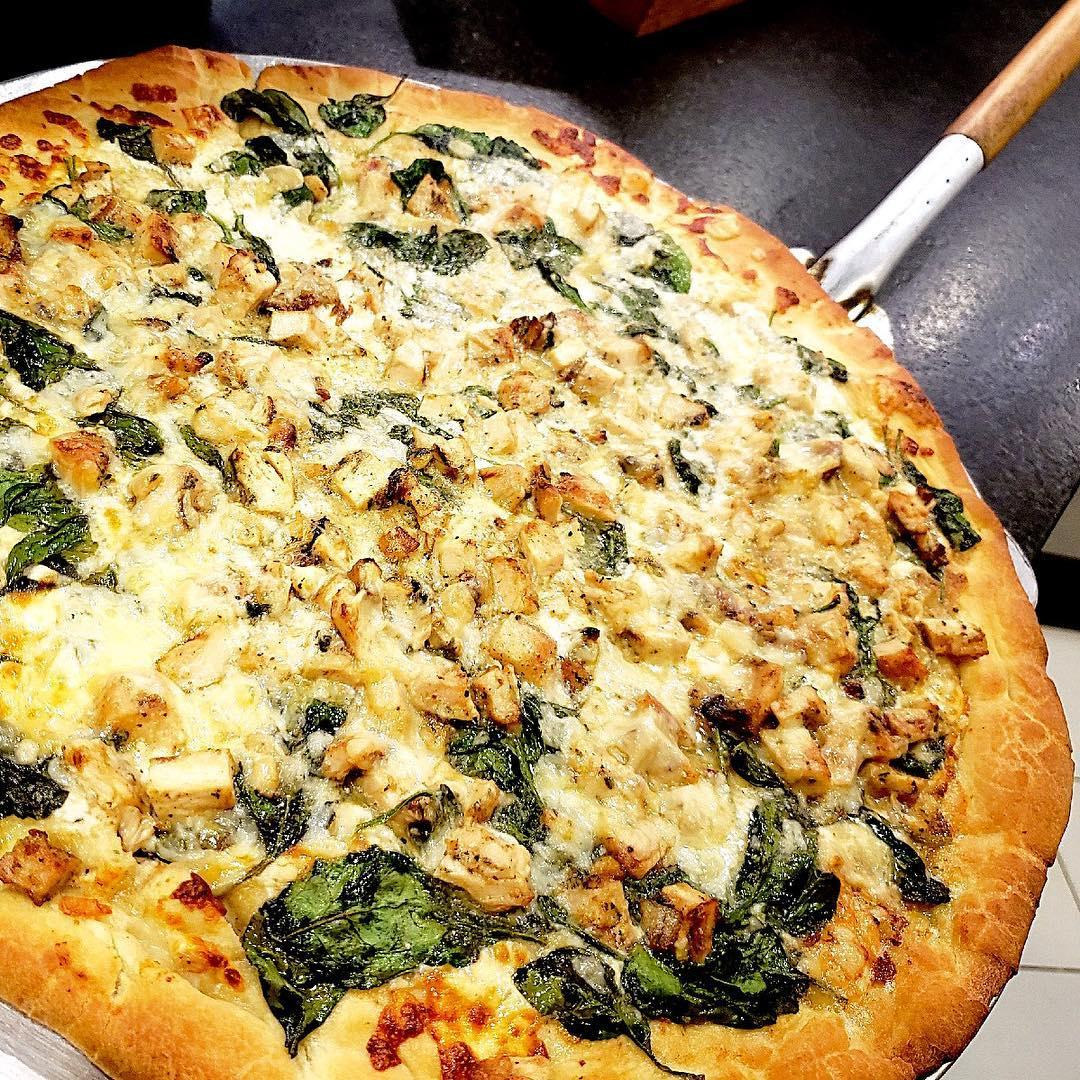Basil: (512, 789, 837, 1034), (234, 842, 548, 1055), (209, 76, 376, 204), (421, 687, 557, 844), (0, 454, 103, 603), (584, 216, 703, 337), (877, 425, 982, 555), (813, 570, 911, 709), (0, 292, 103, 408), (856, 801, 945, 924), (339, 207, 497, 276), (0, 723, 89, 839), (411, 107, 559, 173), (494, 219, 594, 313), (694, 689, 780, 792), (40, 161, 137, 251), (80, 395, 175, 466), (370, 150, 467, 218), (88, 111, 174, 185), (149, 176, 211, 207)
Chicken: (149, 359, 309, 520), (410, 301, 569, 452), (730, 681, 948, 787), (87, 675, 246, 819), (450, 443, 629, 570), (428, 562, 605, 688), (556, 834, 715, 961), (561, 323, 722, 441), (662, 554, 859, 644), (740, 389, 893, 499), (596, 568, 748, 667), (418, 796, 548, 910), (287, 519, 395, 656), (380, 636, 525, 734), (340, 139, 487, 233), (310, 434, 456, 522), (0, 825, 116, 934), (238, 241, 369, 325), (320, 315, 439, 404), (838, 616, 991, 685), (141, 615, 259, 695), (287, 701, 395, 788), (137, 205, 243, 292), (863, 477, 961, 564), (224, 153, 341, 217), (34, 183, 131, 259), (36, 422, 132, 495), (266, 287, 319, 358), (144, 116, 201, 169)
Pizza: (0, 36, 1078, 1080)
